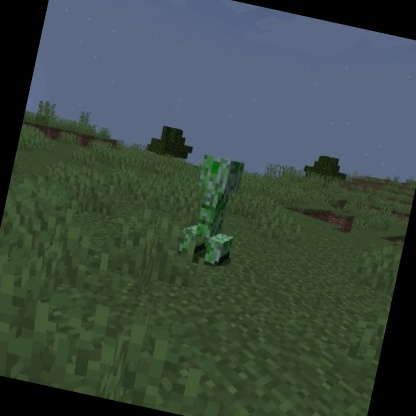creeper: (173, 150, 252, 273)
